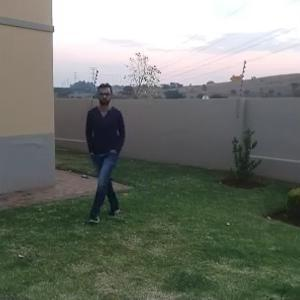follow: (81, 81, 126, 213)
